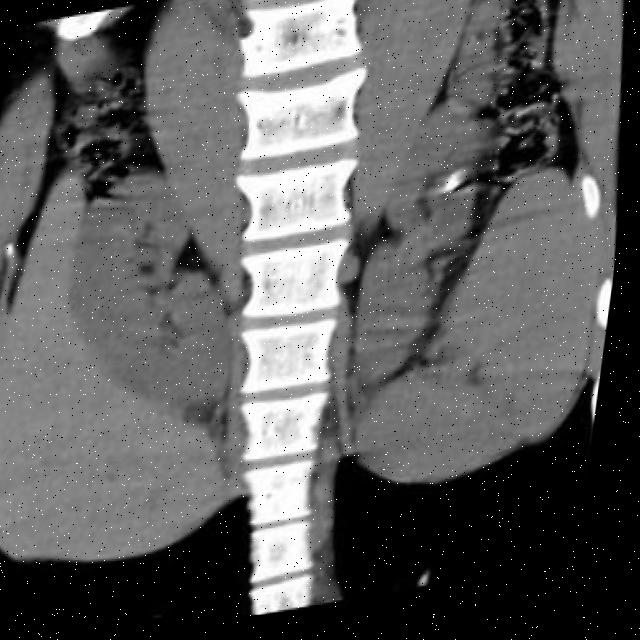Tas_Var: (442, 178, 470, 209)
